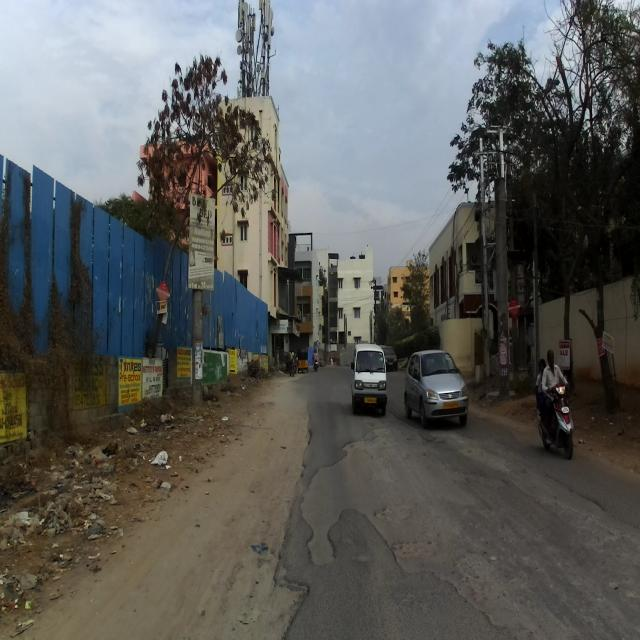car ahead at: (403, 351, 469, 434), (352, 344, 386, 415)
motorcycle ahead at: (534, 346, 577, 454)
